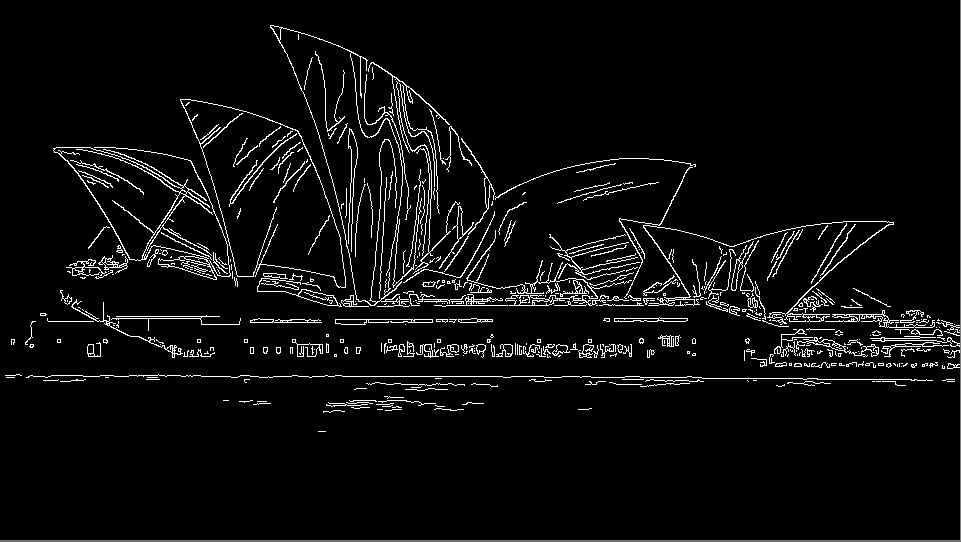opera house: (17, 16, 905, 334)
